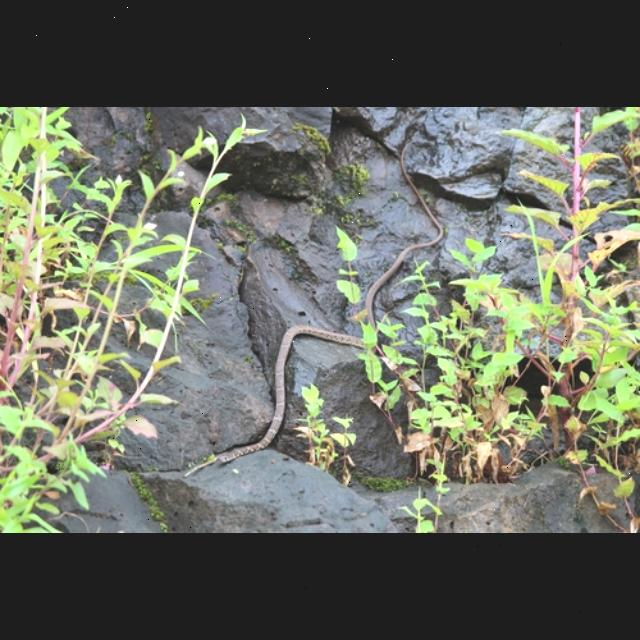snake: (212, 136, 448, 468)
